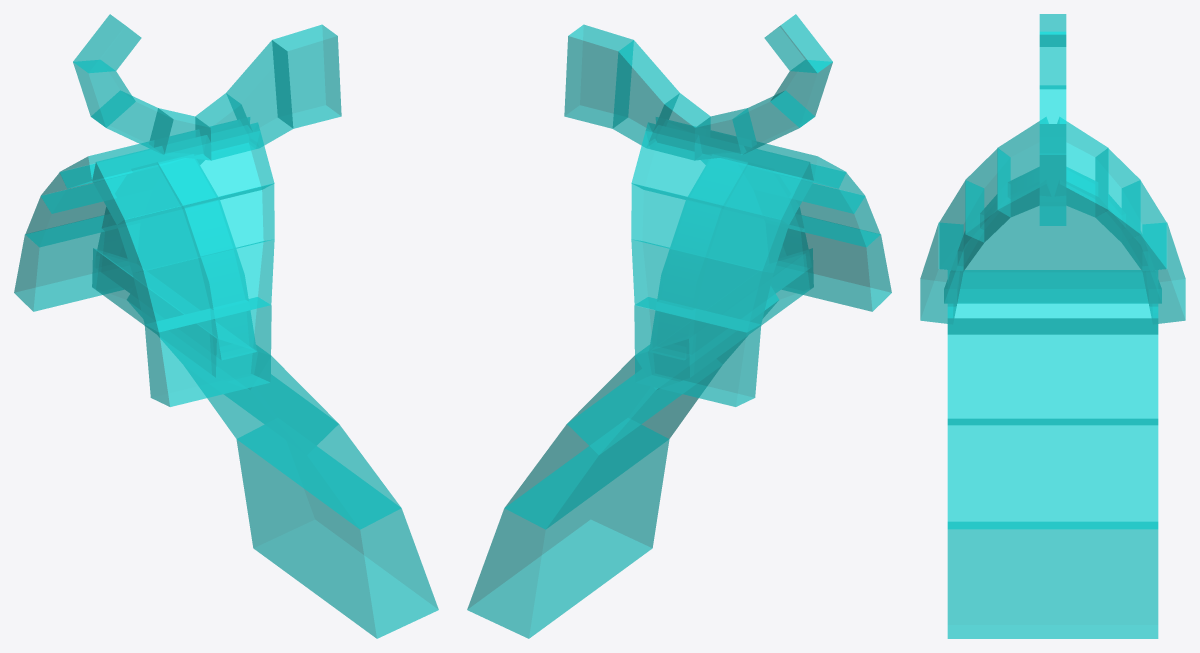
The model's file is SM_Bld_Hall_Roof_Window_Large_01_Collision.fbx.
The picture shows the model from 3 angles, left to right: view 1: azimuth 30°, elevation 25°; view 2: azimuth 150°, elevation 25°; view 3: azimuth 270°, elevation 25°; orthographic projection. The views are drawn at different scales.
Visible parts, largest first — view 1: SM_Bld_Hall_Roof_Window_Large_01_Collision; view 2: SM_Bld_Hall_Roof_Window_Large_01_Collision; view 3: SM_Bld_Hall_Roof_Window_Large_01_Collision.
Part boxes in pixels (<box>): SM_Bld_Hall_Roof_Window_Large_01_Collision: <box>14,14,438,638</box>; SM_Bld_Hall_Roof_Window_Large_01_Collision: <box>467,14,891,638</box>; SM_Bld_Hall_Roof_Window_Large_01_Collision: <box>920,14,1185,638</box>.
Bounding box in the file's own units: 773 × 1551 × 706.
